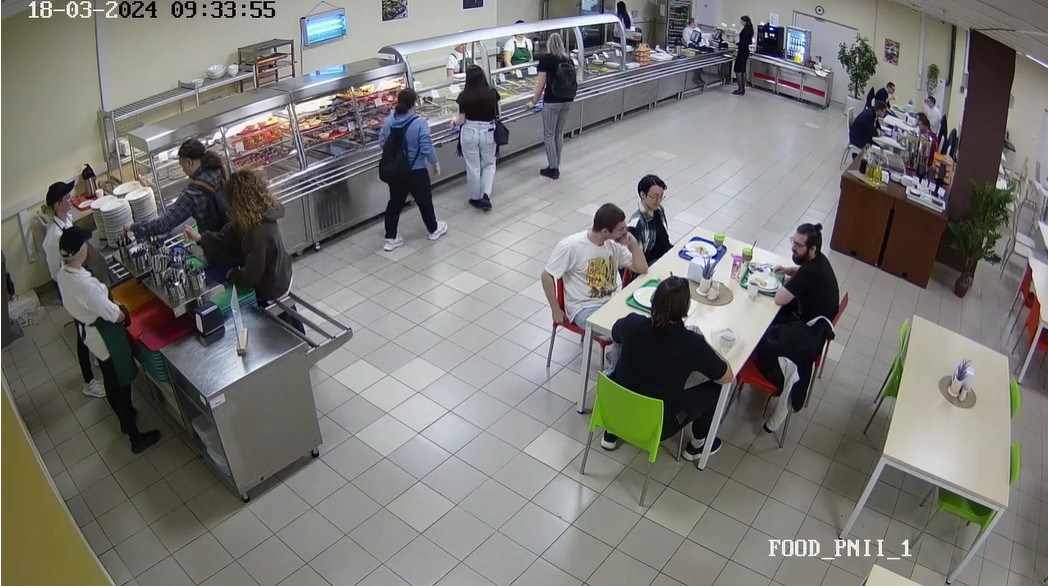Na_Kasse: (728, 16, 755, 96)
Personal: (36, 230, 220, 460), (35, 179, 82, 231), (500, 18, 537, 64), (446, 27, 480, 69), (607, 2, 637, 43), (681, 12, 710, 49)
Vybiraet: (196, 171, 307, 315), (123, 137, 227, 247), (378, 80, 440, 251), (534, 33, 576, 182), (459, 62, 500, 208)
Za_Stolom: (574, 287, 738, 476), (543, 192, 647, 370), (766, 221, 840, 323), (636, 174, 677, 243), (847, 96, 891, 154), (909, 116, 937, 159), (872, 77, 900, 107), (916, 87, 938, 119)
